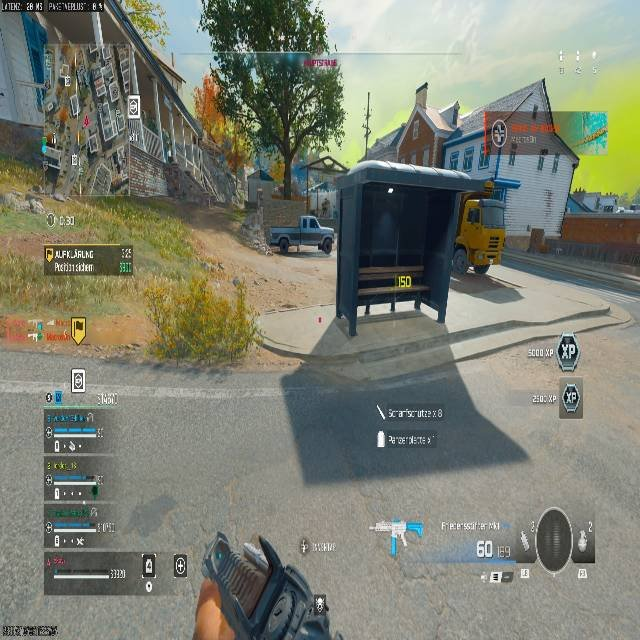player: (321, 197, 329, 216)
